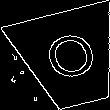O_S: (38, 29, 101, 89)
